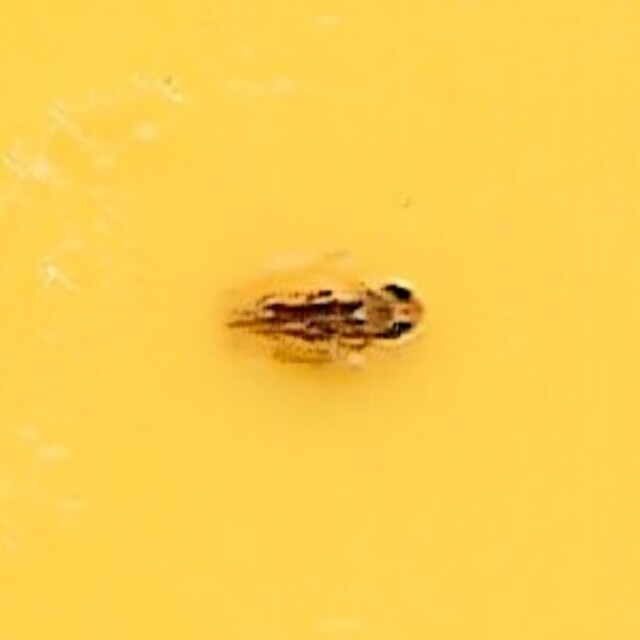Hemiptera: (214, 269, 426, 371)
